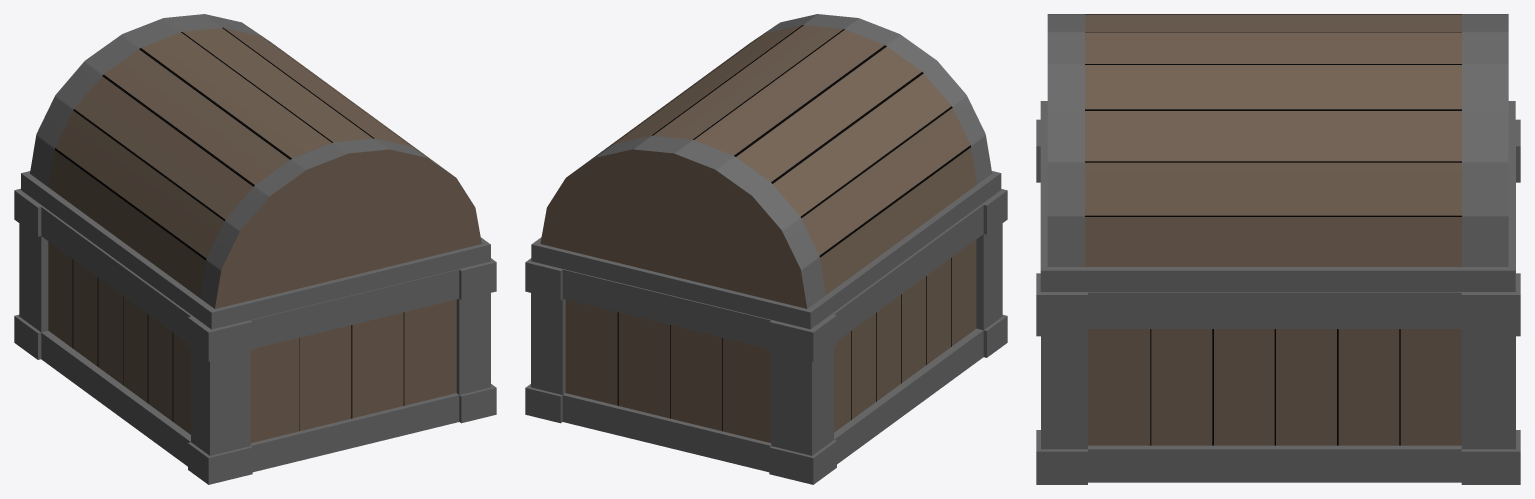
File: chestAnimation.fbx
The picture shows the model from 3 angles, left to right: view 1: azimuth 30°, elevation 25°; view 2: azimuth 150°, elevation 25°; view 3: azimuth 270°, elevation 25°; orthographic projection. The views are drawn at different scales.
Parts seen in each view (by area): view 1: pCylinder6, pCube3; view 2: pCylinder6, pCube3; view 3: pCylinder6, pCube3.
Part boxes in pixels (x1,y1,x2,y2): pCylinder6: (21,14,490,329); pCube3: (14,188,496,484); pCylinder6: (531,14,1001,329); pCube3: (525,189,1007,484); pCylinder6: (1040,14,1515,291); pCube3: (1036,119,1520,484).
Size of the model in its own units: 1.98 by 1.92 by 2.31.
